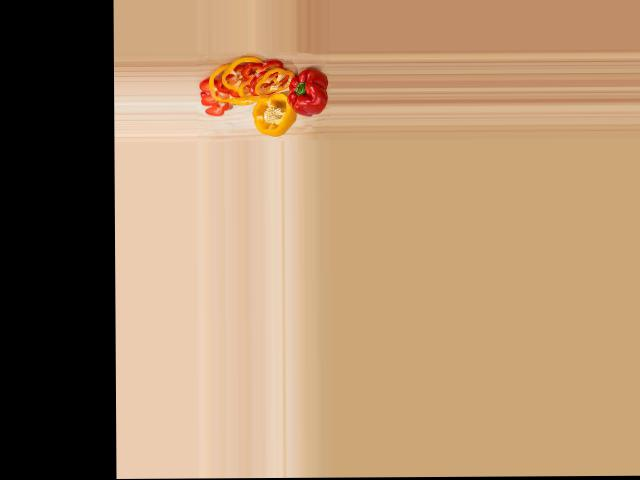bell_pepper: (250, 93, 294, 138)
